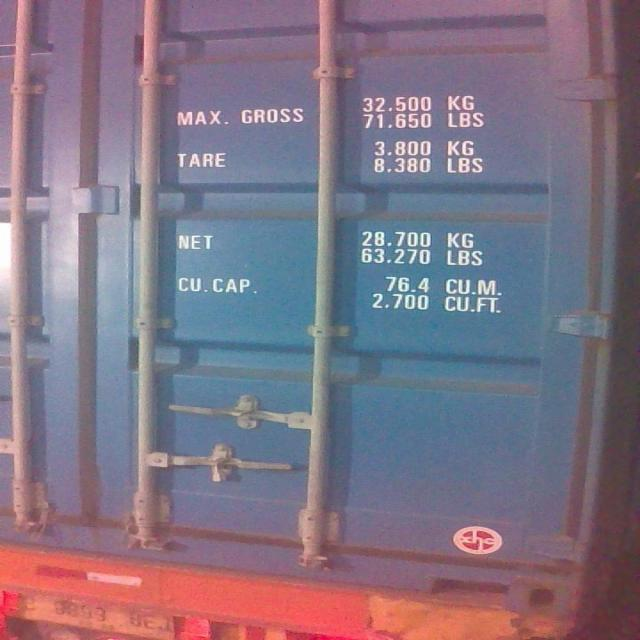seal: (210, 452, 231, 488)
